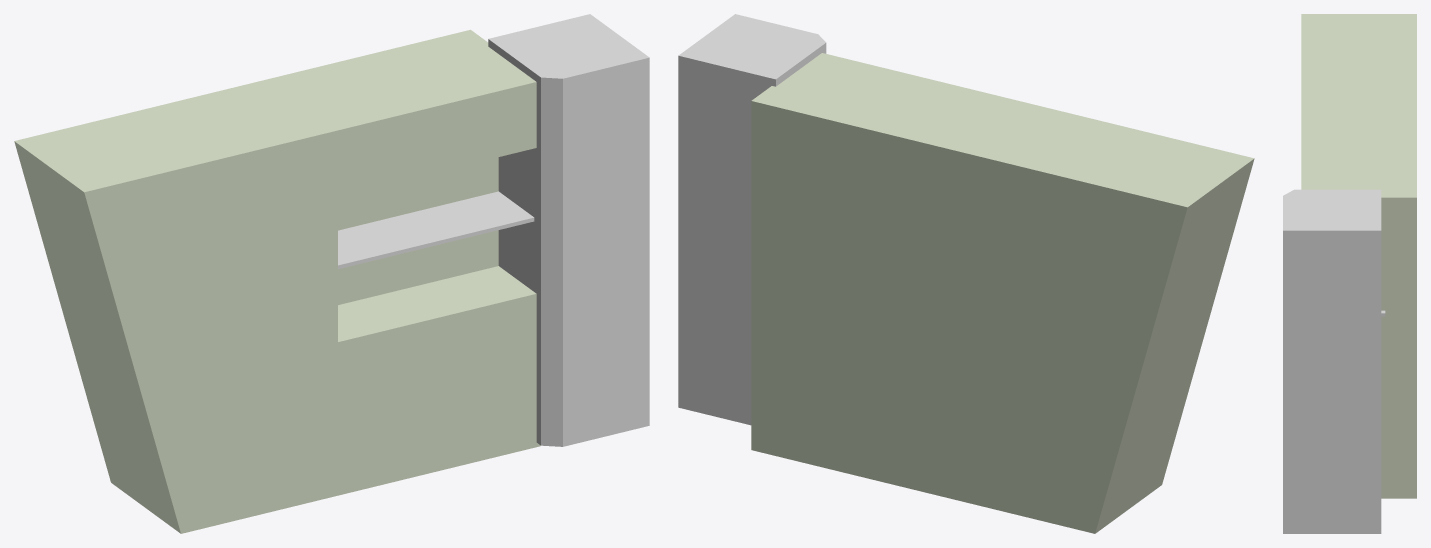
The model's file is pillar.fbx.
3 renders of one model, left to right at view 1: azimuth 30°, elevation 25°; view 2: azimuth 150°, elevation 25°; view 3: azimuth 270°, elevation 25°, orthographic. The views are drawn at different scales.
Parts seen in each view (by area): view 1: WALL RIGHT, pillar, shelf_vitrinskap; view 2: WALL RIGHT, pillar; view 3: pillar, WALL RIGHT.
Boxes of the visible parts, x1,y1,x2,y2 form: WALL RIGHT: (14,29,540,533); pillar: (488,14,649,446); shelf_vitrinskap: (338,191,534,269); WALL RIGHT: (751,53,1254,533); pillar: (678,14,826,425); pillar: (1283,189,1381,533); WALL RIGHT: (1301,14,1416,498).
Bounding box in the file's own units: 5.77 × 3.71 × 1.46.
